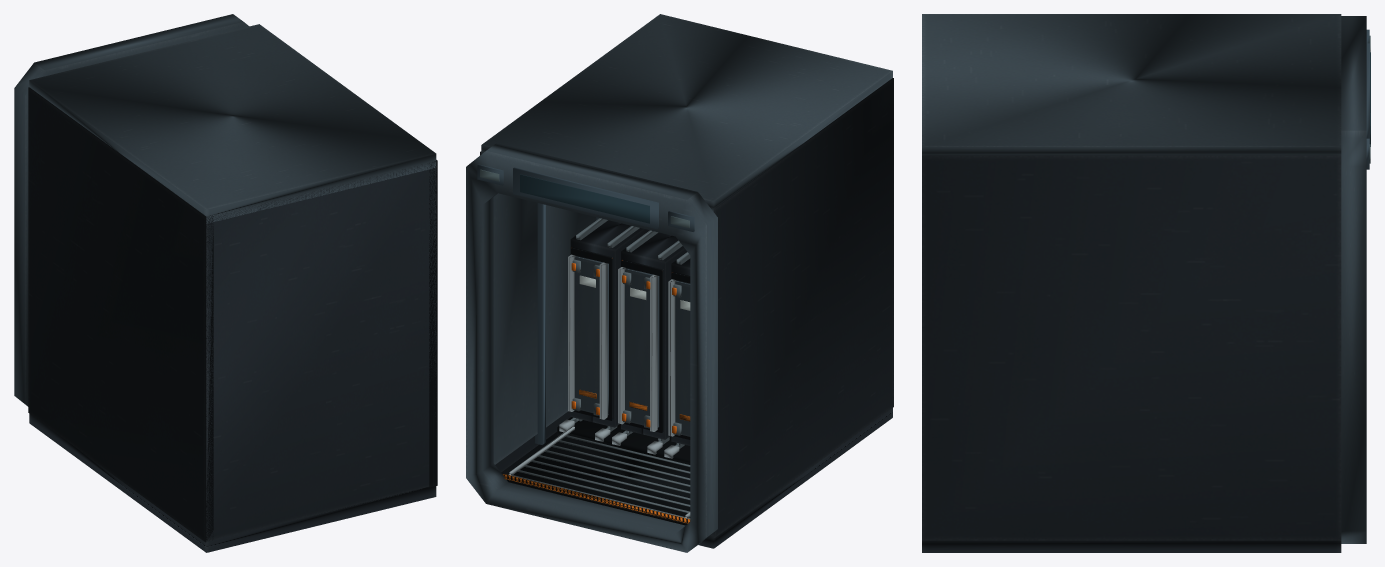
The model's file is BatteryBay_LOD2.fbx.
3 views of the same model, side by side, from view 1: azimuth 30°, elevation 25°; view 2: azimuth 150°, elevation 25°; view 3: azimuth 270°, elevation 25° (orthographic). The views are drawn at different scales.
Visible parts, largest first — view 1: Housing, Frame; view 2: Housing, Frame, Cassette04, Cassette03, Cassette02, ActiveDisplay, Backplane; view 3: Housing, Frame.
Part boxes in pixels (x1,y1,x2,y2): Housing: (28, 24, 437, 552); Frame: (14, 14, 249, 406); Housing: (480, 14, 893, 548); Frame: (466, 143, 717, 552); Cassette04: (568, 218, 649, 429); Cassette03: (618, 230, 687, 441); Cassette02: (668, 252, 690, 445); ActiveDisplay: (520, 174, 649, 223); Backplane: (557, 417, 690, 462); Housing: (922, 14, 1341, 552); Frame: (1341, 16, 1369, 543).
Size of the model in its own units: 2.3 by 3.22 by 3.17.
